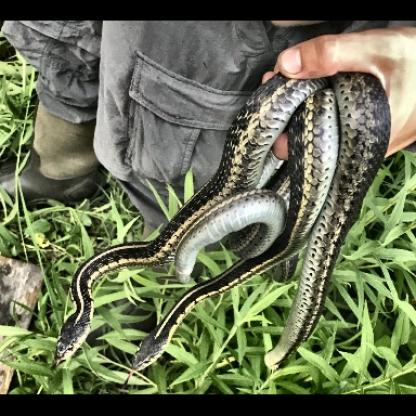Snake: (125, 286, 239, 374), (50, 238, 122, 370)
